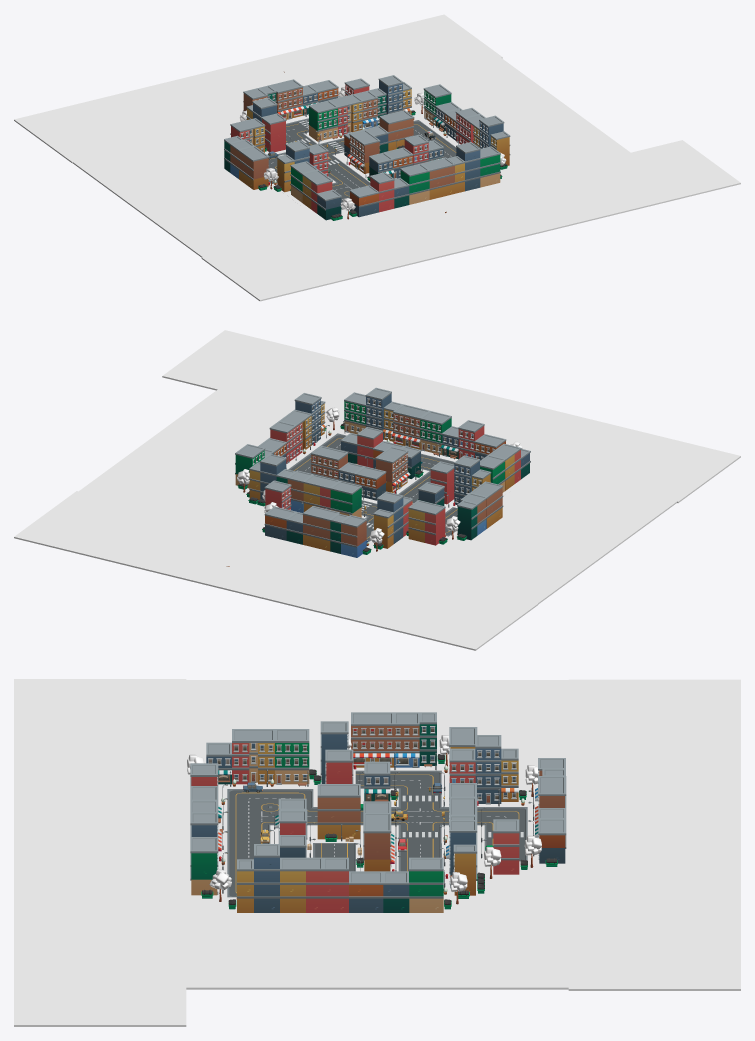
File: map.glb
3 views of the same model, one above another, from view 1: azimuth 30°, elevation 25°; view 2: azimuth 150°, elevation 25°; view 3: azimuth 270°, elevation 25° (orthographic). The views are drawn at different scales.
Parts seen in each view (by area): view 1: Cube. 1005, Cube. 1007, Cube. 1004, Cube. 1006, Cube.937 (×5), Cube.936 (×5), Cube.935 (×5), Cube.932 (×3), Cube.933 (×3), Cube. 980, Cube.940 (×3), Cube. 1008 (+6 smaller); view 2: Cube. 1007, Cube. 1005, Cube. 1004, Cube. 1006, Cube.936 (×5), Cube.937 (×5), Cube.935 (×5), Cube.932 (×4), Cube.933 (×3), Cube.940 (×4), Cube. 980, Cube. 979 (+5 smaller); view 3: Cube. 1005, Cube. 1007, Cube. 1006, Cube. 1004, Cube.936 (×5), Cube.937 (×4), Cube.940 (×5), Cube.935 (×3), Cube.932 (×3), Cube.933 (×2), Cube. 977, Cube.934 (×2) (+22 smaller).
Part boxes in pixels (<box>): Cube. 1005: <box>201,140,740,301</box>; Cube. 1007: <box>14,14,502,163</box>; Cube. 1004: <box>67,126,304,257</box>; Cube. 1006: <box>385,47,630,177</box>; Cube.937 (×5): <box>238,79,455,199</box>; Cube.936 (×5): <box>246,75,510,193</box>; Cube.935 (×5): <box>290,84,500,204</box>; Cube.932 (×3): <box>230,94,362,213</box>; Cube.933 (×3): <box>224,85,386,178</box>; Cube. 980: <box>173,131,313,222</box>; Cube.940 (×3): <box>261,113,394,212</box>; Cube. 1008: <box>253,206,330,238</box>; Cube. 1007: <box>14,491,538,650</box>; Cube. 1005: <box>162,330,740,502</box>; Cube. 1004: <box>420,475,676,614</box>; Cube. 1006: <box>79,389,325,517</box>; Cube.936 (×5): <box>249,387,491,548</box>; Cube.937 (×5): <box>302,404,503,551</box>; Cube.935 (×5): <box>235,392,505,517</box>; Cube.932 (×4): <box>279,409,521,545</box>; Cube.933 (×3): <box>276,469,487,557</box>; Cube.940 (×4): <box>264,420,484,510</box>; Cube. 980: <box>403,482,539,576</box>; Cube. 979: <box>212,513,416,570</box>; Cube. 1005: <box>14,679,186,1026</box>; Cube. 1007: <box>568,679,740,990</box>; Cube. 1006: <box>183,915,612,989</box>; Cube. 1004: <box>183,680,613,752</box>; Cube.936 (×5): <box>190,721,518,912</box>; Cube.937 (×4): <box>317,712,566,871</box>; Cube.940 (×5): <box>190,748,519,912</box>; Cube.935 (×3): <box>190,729,443,912</box>; Cube.932 (×3): <box>232,727,477,912</box>; Cube.933 (×2): <box>394,712,565,801</box>; Cube. 977: <box>226,897,568,915</box>; Cube.934 (×2): <box>349,818,566,912</box>.
Size of the model in its own units: 38 by 3.05 by 33.76.
Materials: 549 (411 with a texture image).
